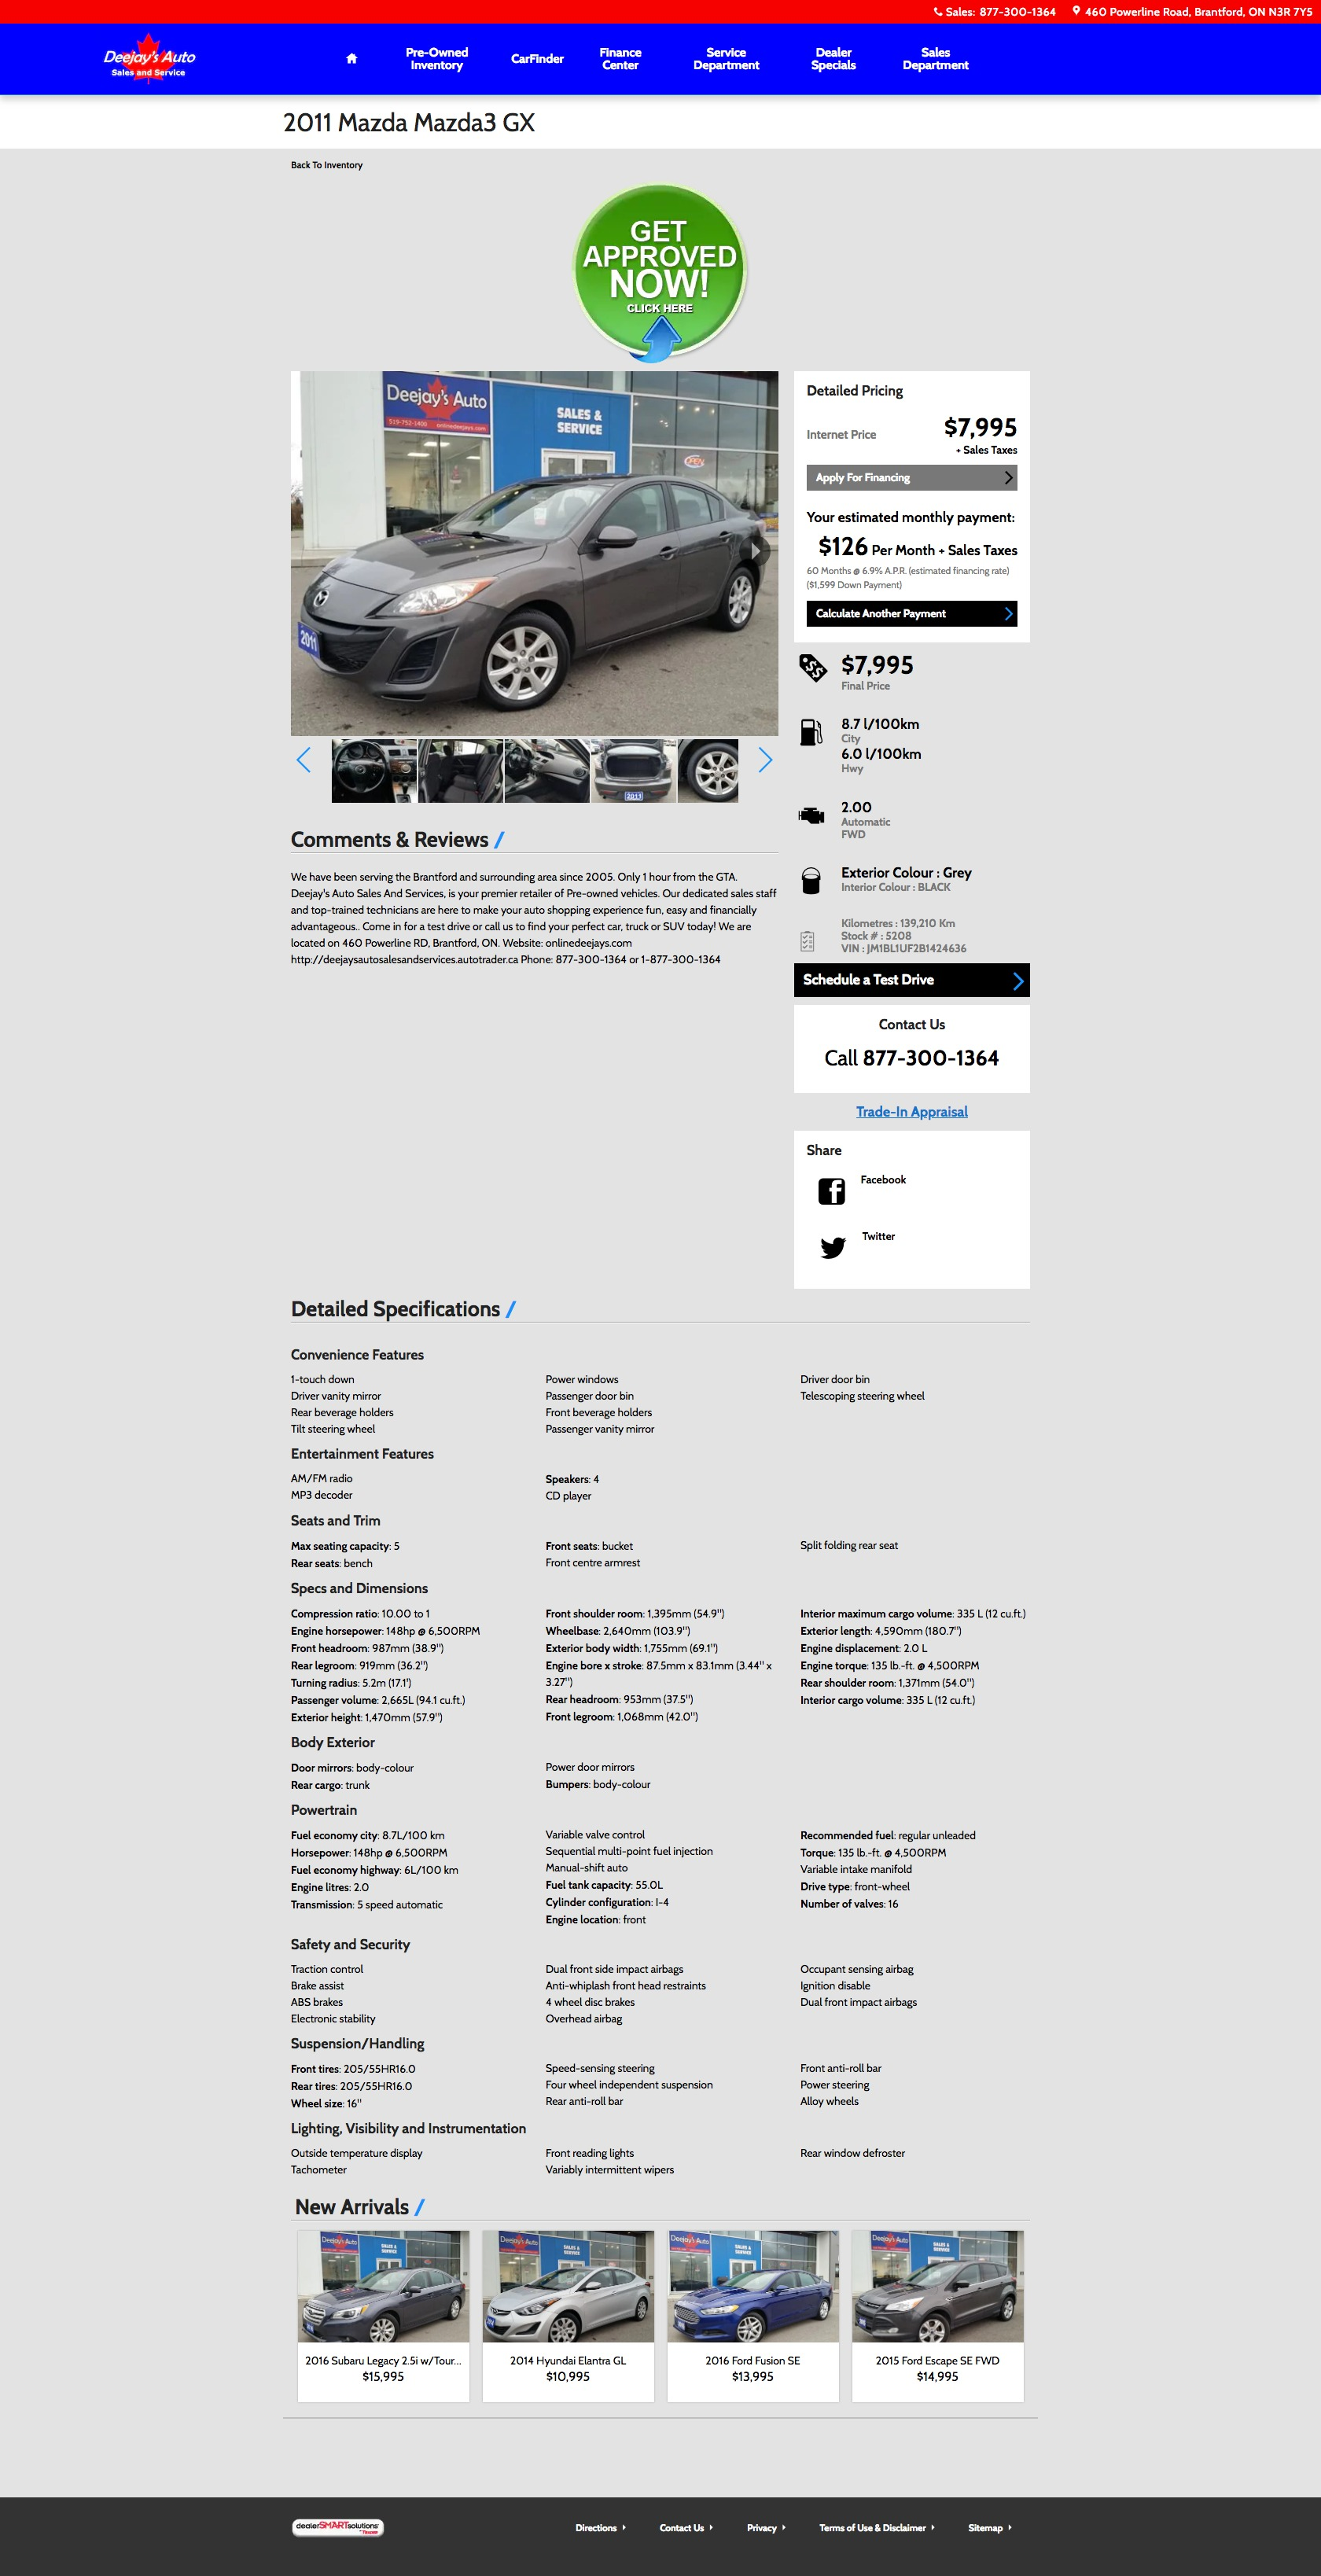car: (758, 748, 773, 773)
